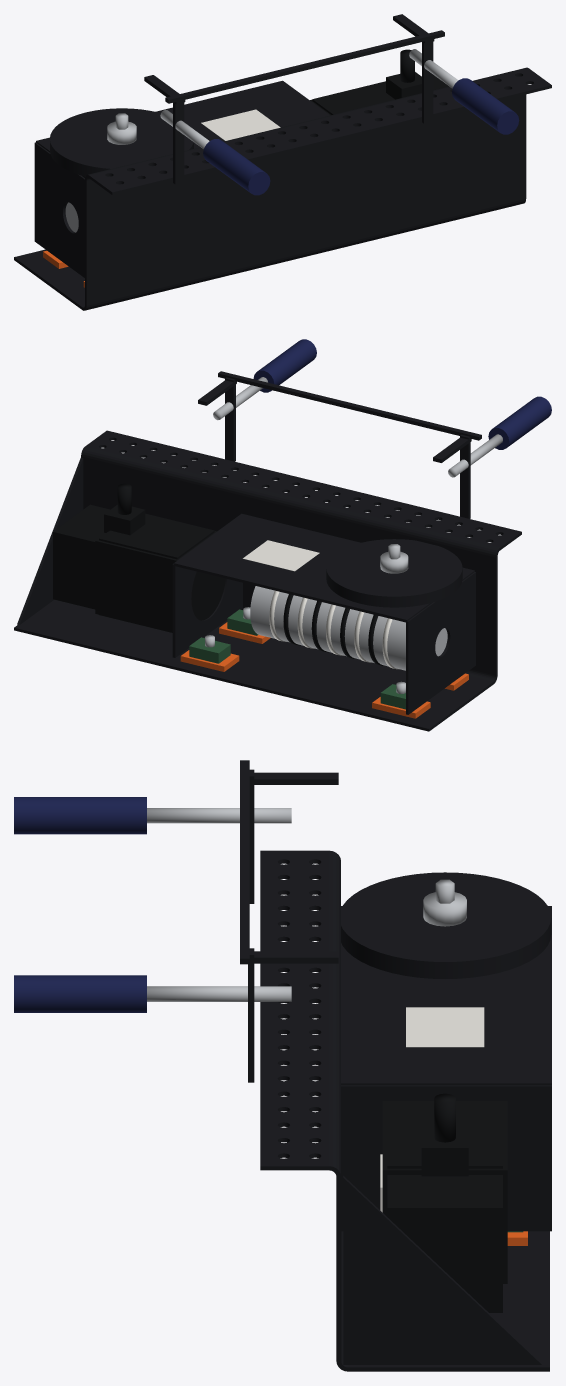
File: drive.47221de0ed.glb
The picture shows the model from 3 angles, top to bottom: view 1: azimuth 30°, elevation 25°; view 2: azimuth 150°, elevation 25°; view 3: azimuth 270°, elevation 25°; orthographic projection. The views are drawn at different scales.
Parts seen in each view (by area): view 1: base, drum, bracket_side_a, bracket_top, clamp_rail, clamp_handle, clamp_handle.001, fin.001, logo, clamp_arm, clamp_arm.001, conn (+6 smaller); view 2: base, bracket_top, drum, bracket_side_a, gearbox, motor_body, motor_rear, bracket_side_b, fin.001, gusset, clamp_rail, clamp_handle (+12 smaller); view 3: base, bracket_top, gusset, drum, bracket_side_b, motor_rear, clamp_handle, clamp_handle.001, fin.001, logo, clamp_screw.001, clamp_screw (+9 smaller).
Boxes of the visible parts, bbox=[...] form: base: bbox=[14, 67, 551, 310]; drum: bbox=[50, 108, 193, 176]; bracket_side_a: bbox=[34, 142, 84, 277]; bracket_top: bbox=[36, 80, 329, 177]; clamp_rail: bbox=[165, 30, 444, 103]; clamp_handle: bbox=[203, 139, 270, 195]; clamp_handle.001: bbox=[452, 78, 519, 134]; fin.001: bbox=[312, 81, 394, 114]; logo: bbox=[201, 109, 280, 140]; clamp_arm: bbox=[173, 102, 184, 184]; clamp_arm.001: bbox=[422, 41, 433, 123]; conn: bbox=[386, 72, 421, 99]; base: bbox=[14, 430, 521, 731]; bracket_top: bbox=[174, 513, 474, 622]; drum: bbox=[326, 539, 462, 607]; bracket_side_a: bbox=[406, 572, 475, 714]; gearbox: bbox=[250, 586, 447, 670]; motor_body: bbox=[95, 531, 216, 632]; motor_rear: bbox=[53, 504, 109, 609]; bracket_side_b: bbox=[172, 563, 242, 657]; fin.001: bbox=[99, 513, 214, 559]; gusset: bbox=[17, 458, 83, 624]; clamp_rail: bbox=[218, 371, 481, 440]; clamp_handle: bbox=[488, 396, 551, 449]; base: bbox=[260, 850, 549, 1371]; bracket_top: bbox=[341, 906, 551, 1085]; gusset: bbox=[343, 1176, 542, 1364]; drum: bbox=[341, 872, 551, 978]; bracket_side_b: bbox=[341, 1085, 551, 1231]; motor_rear: bbox=[387, 1175, 502, 1312]; clamp_handle: bbox=[14, 797, 146, 834]; clamp_handle.001: bbox=[14, 975, 146, 1012]; fin.001: bbox=[387, 1106, 502, 1168]; logo: bbox=[406, 1007, 484, 1047]; clamp_screw.001: bbox=[147, 986, 291, 1001]; clamp_screw: bbox=[147, 808, 291, 823].
Bounding box in the file's own units: 0.477 × 0.2335 × 0.3438.
